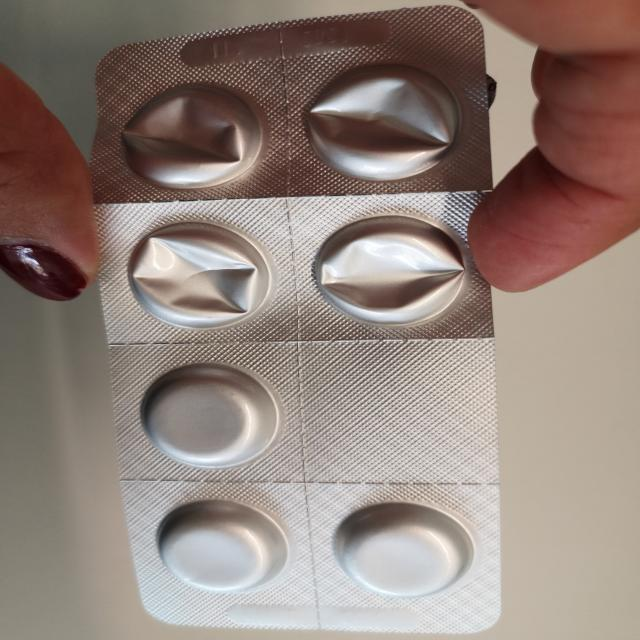Empty: (302, 58, 467, 186), (307, 212, 469, 333), (114, 78, 272, 194), (122, 217, 274, 333)
Pill: (137, 361, 286, 474), (326, 497, 476, 602), (152, 497, 292, 598)
